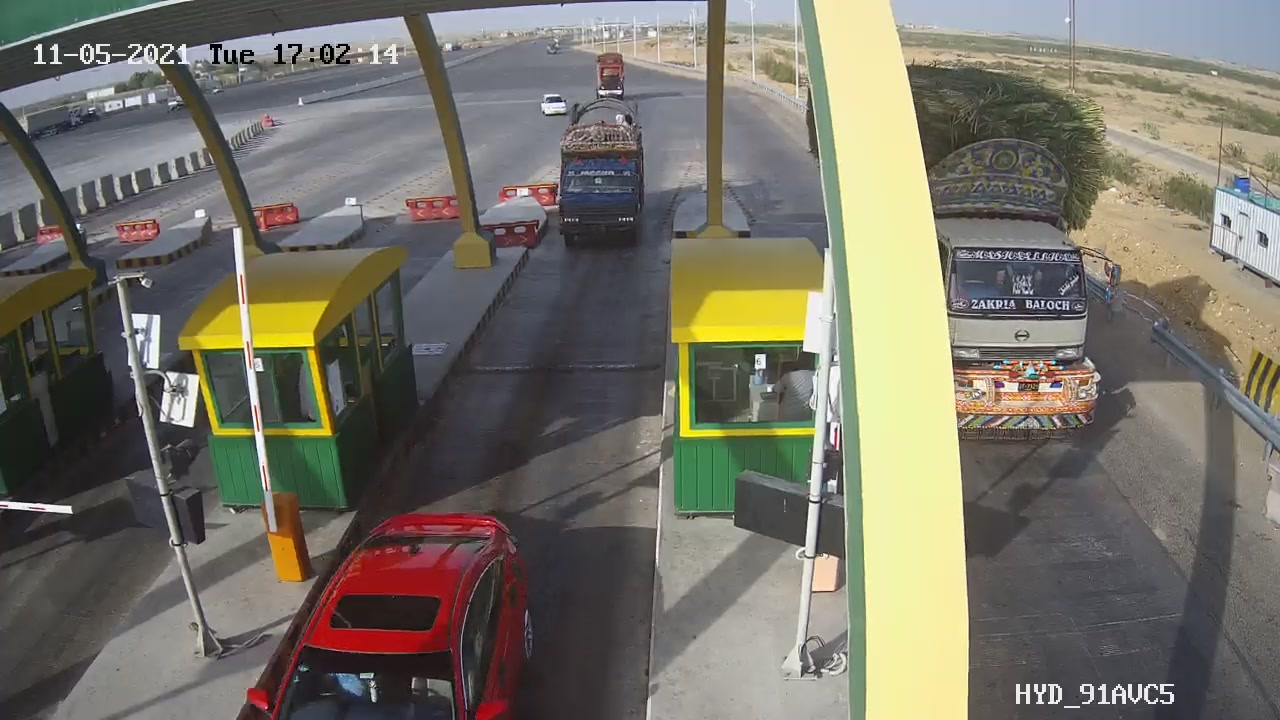F5: (538, 90, 661, 261)
